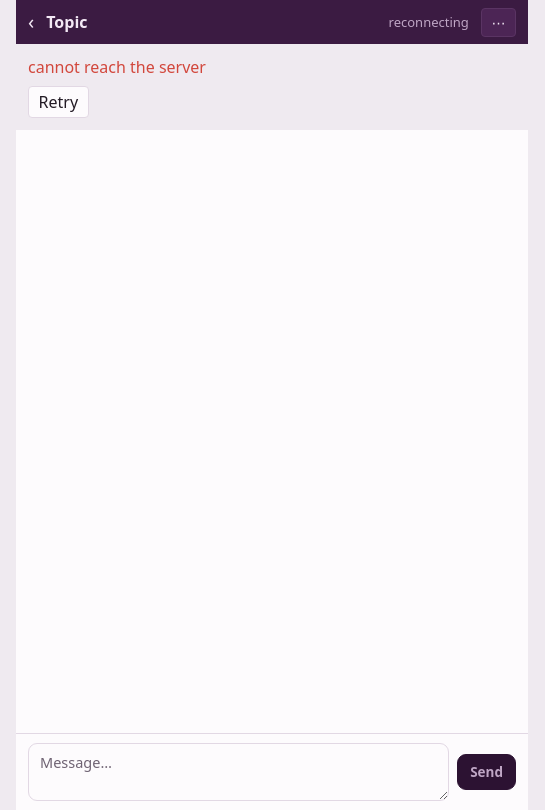
Scenario: a failed page shows the error and Retry asks again
Expected: the message reads "cannot reach the server", [28, 56, 206, 78]
What coordinates should you click on to do the following:
click the button "Retry"
I would click on:
 (58, 102)
Its box is [28, 86, 89, 118].
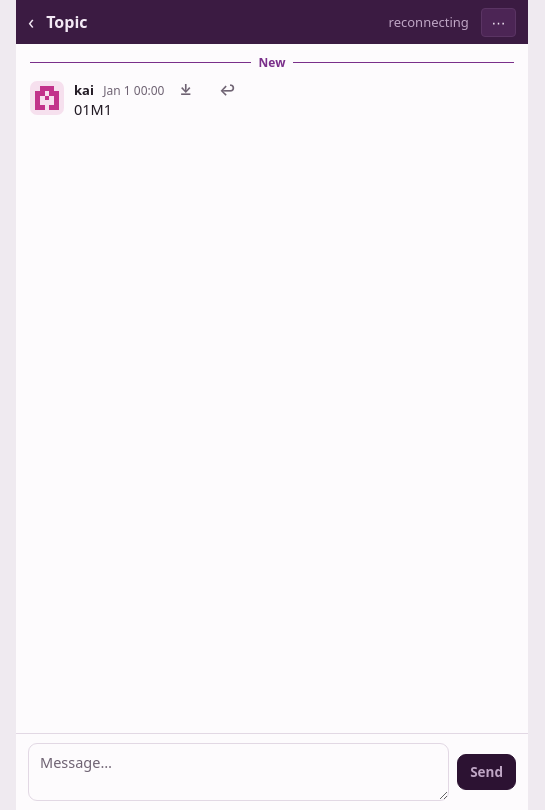
Expected: the text "01M1" is shown, [74, 99, 112, 119]
Expected: the message "cannot reach the server" is gone
Expected: the button "Retry" is gone
